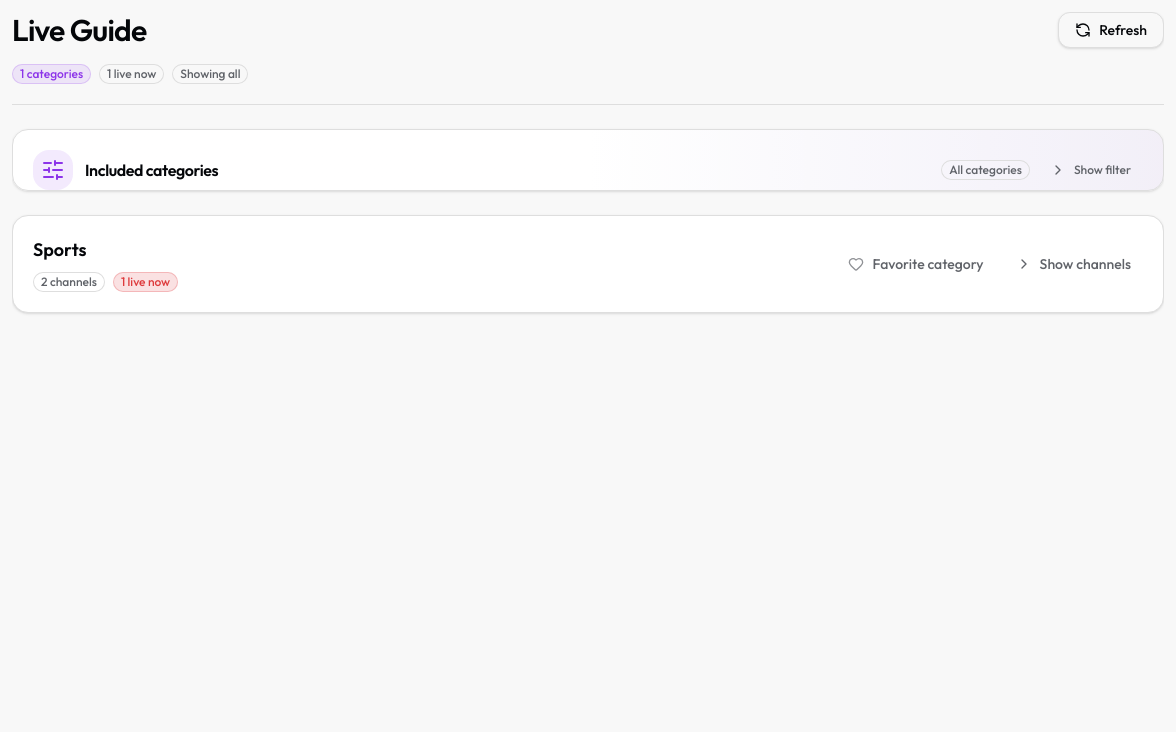
it: GuidePage › loads a category only after it is expanded
Click the button "Show channels" at (1073,264), box top-left (1004, 246), bottom-right (1143, 282)
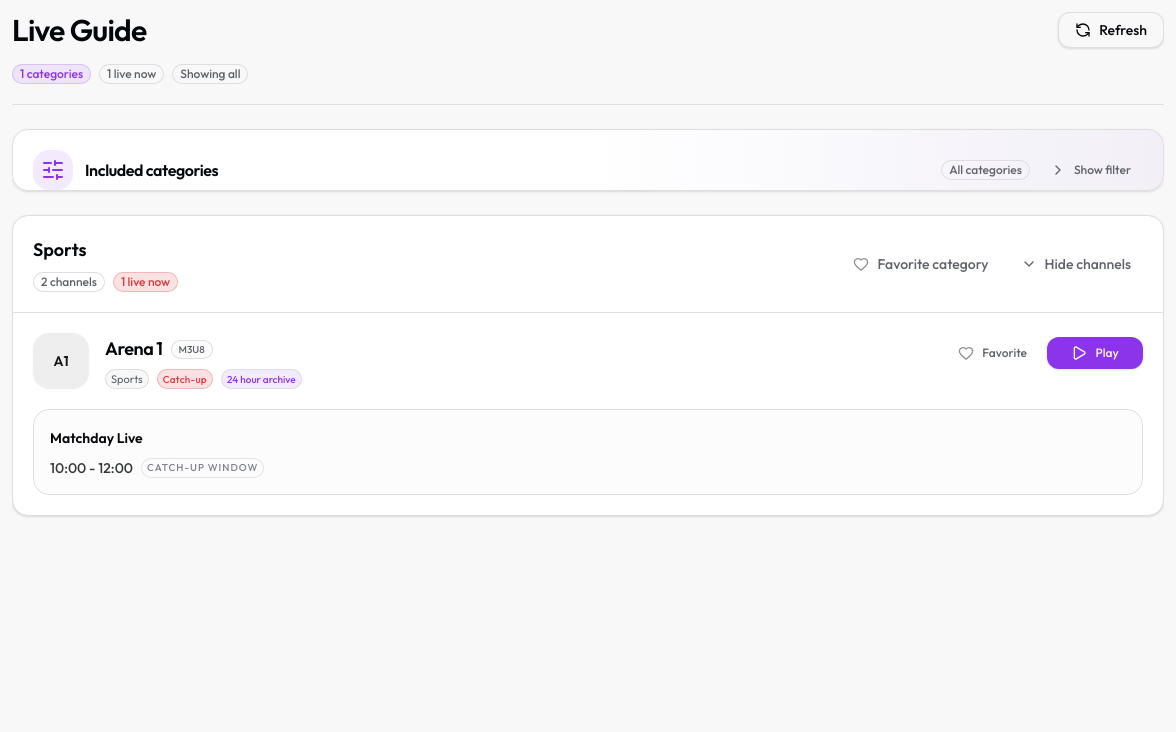
Check: the text "Matchday Live" is shown, box top-left (50, 426), bottom-right (143, 450)
